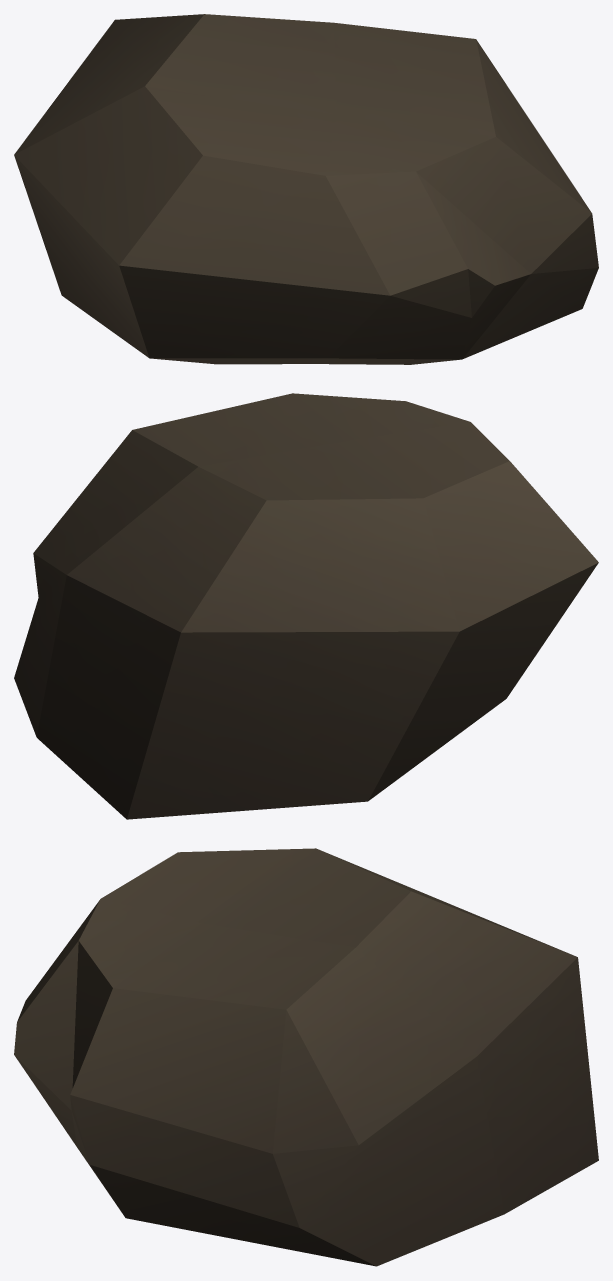
Rendered from LandMass_Rock.fbx.
The picture shows the model from 3 angles, top to bottom: view 1: azimuth 30°, elevation 25°; view 2: azimuth 150°, elevation 25°; view 3: azimuth 270°, elevation 25°; orthographic projection. The views are drawn at different scales.
Parts seen in each view (by area): view 1: LandMass_Rock; view 2: LandMass_Rock; view 3: LandMass_Rock.
Boxes of the visible parts, <box> form: LandMass_Rock: <box>14,14,598,364</box>; LandMass_Rock: <box>14,393,598,819</box>; LandMass_Rock: <box>14,848,598,1266</box>.
Size of the model in its own units: 921 by 510 by 980.
